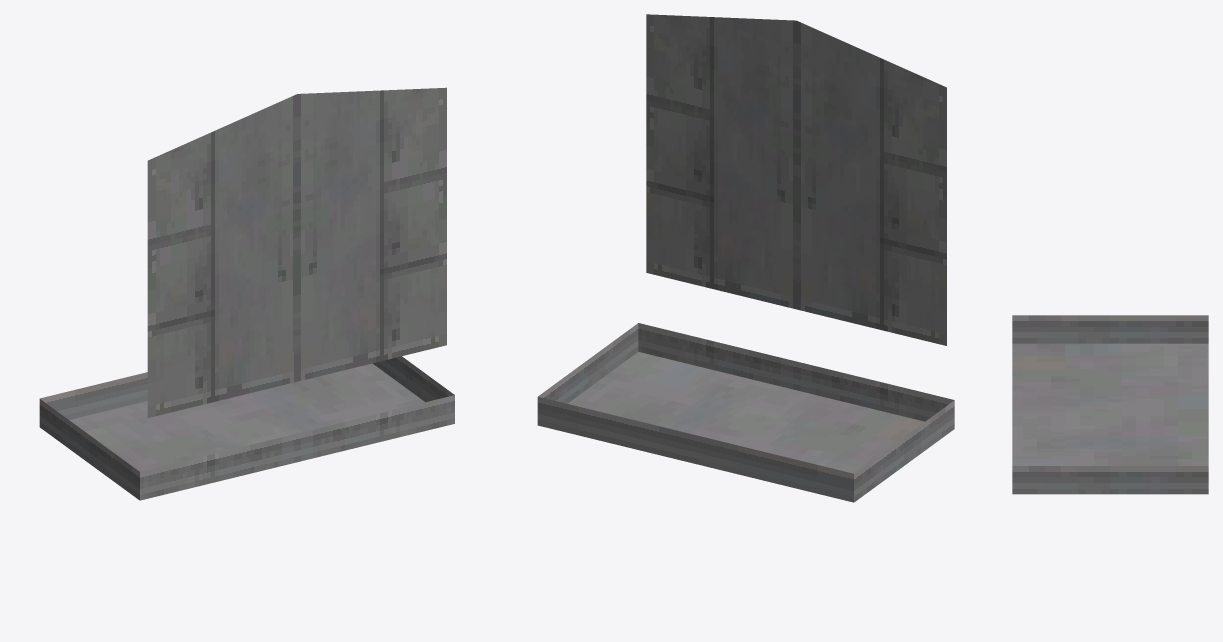
Rendered from frn_all_mdrn_cabinet_s01_l2.fbx.
3 views of the same model, side by side, from view 1: azimuth 30°, elevation 25°; view 2: azimuth 150°, elevation 25°; view 3: azimuth 270°, elevation 25° (orthographic). The views are drawn at different scales.
Visible parts, largest first — view 1: mesh_node; view 2: mesh_node; view 3: mesh_node.
Part boxes in pixels (<box>): mesh_node: <box>39,87,454,500</box>; mesh_node: <box>537,14,954,502</box>; mesh_node: <box>1012,315,1208,494</box>.
Bounding box in the file's own units: 1.82 × 2.26 × 0.8383.
1 material, 1 textured.
